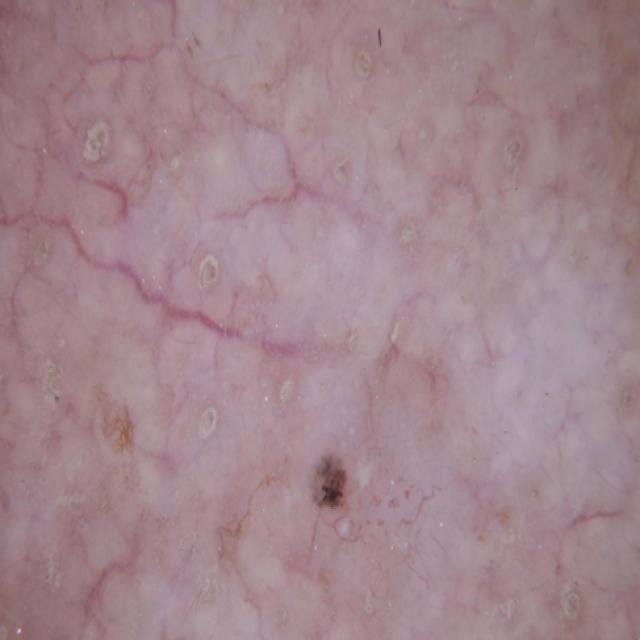Carcinoma: (302, 434, 432, 626), (106, 403, 187, 533), (216, 522, 263, 585)
